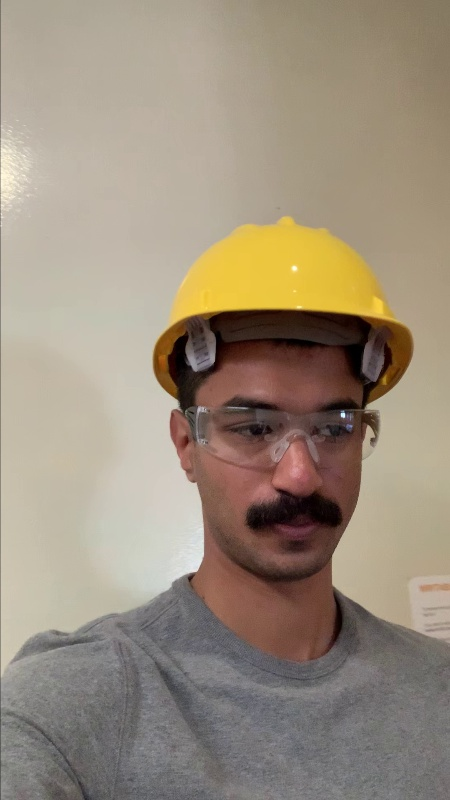glasses: (188, 400, 384, 464)
helmet: (149, 216, 403, 332)
